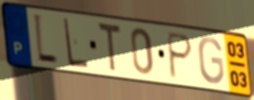0: (129, 26, 156, 79)
G: (197, 36, 226, 86)
L: (32, 11, 60, 68), (62, 16, 90, 70)
P: (166, 30, 195, 81)
T: (96, 20, 123, 75)
